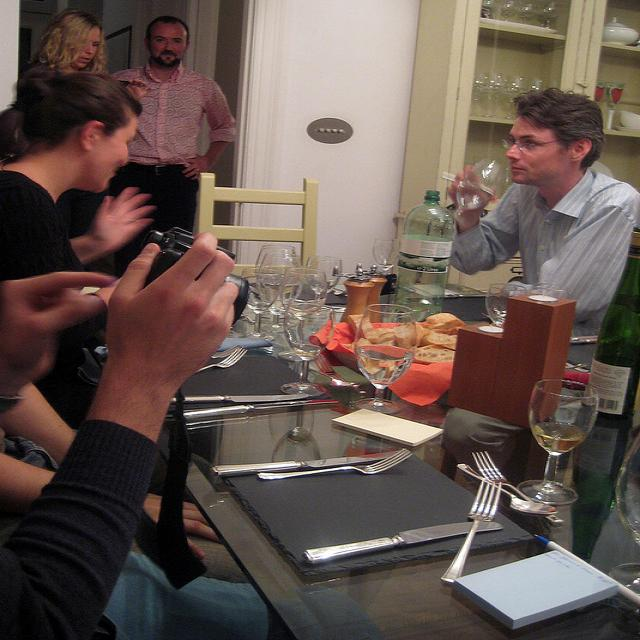chair: (196, 174, 317, 263)
dining table: (160, 283, 635, 630)
